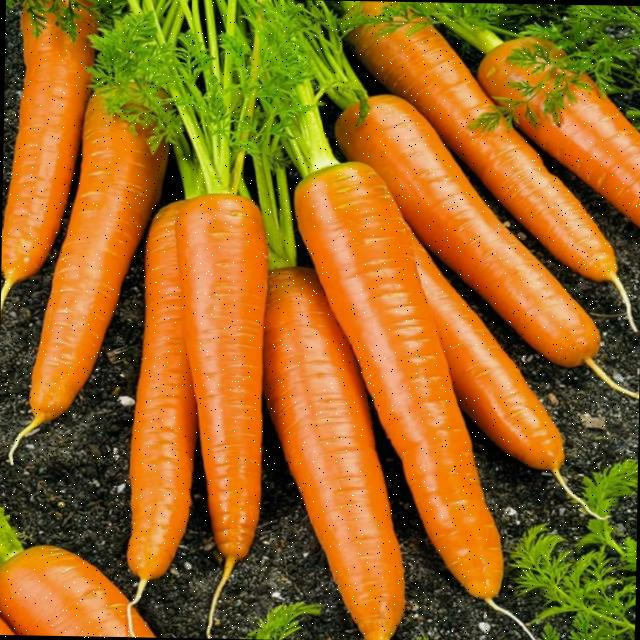carrot: (295, 162, 502, 598), (335, 95, 600, 365), (350, 23, 616, 280), (10, 95, 167, 457), (263, 267, 405, 640), (413, 237, 564, 470), (176, 193, 268, 563), (477, 37, 640, 226), (126, 201, 197, 579), (1, 11, 95, 294), (0, 508, 155, 637)
